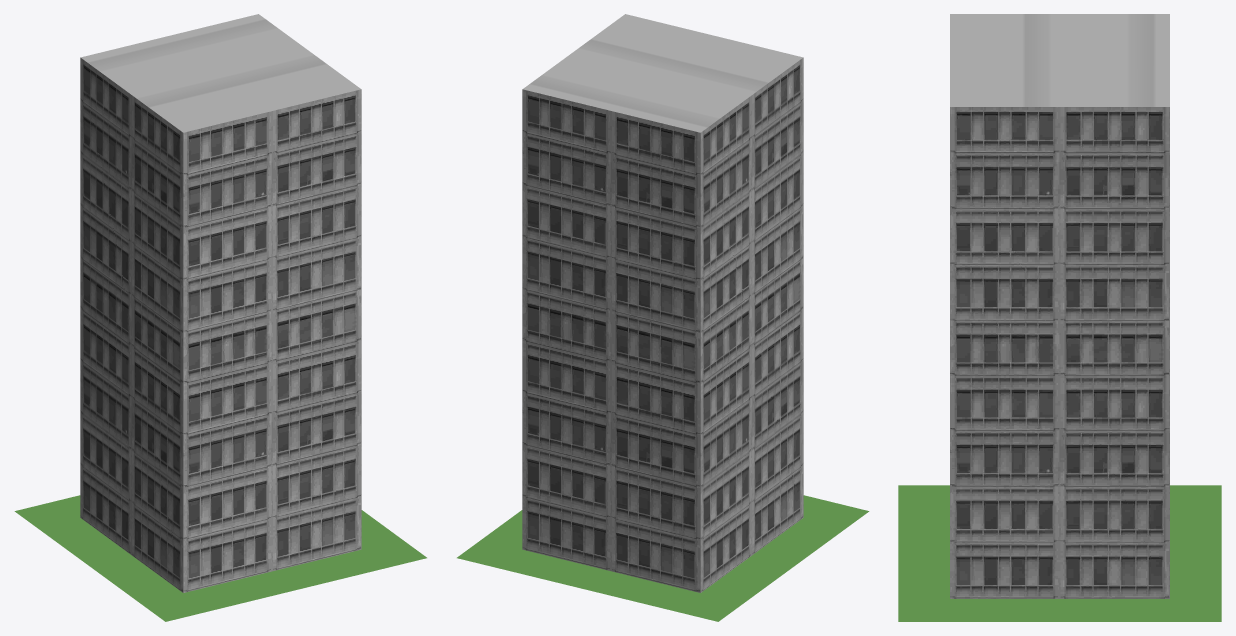
File: Building.002.gltf
The picture shows the model from 3 angles, left to right: view 1: azimuth 30°, elevation 25°; view 2: azimuth 150°, elevation 25°; view 3: azimuth 270°, elevation 25°; orthographic projection. The views are drawn at different scales.
Parts seen in each view (by area): view 1: Building.002, Plane.002; view 2: Building.002, Plane.002; view 3: Building.002, Plane.002.
Boxes of the visible parts, left/top/right/bottom form: Building.002: left=80, top=14, right=361, bottom=592; Plane.002: left=14, top=495, right=426, bottom=621; Building.002: left=522, top=14, right=803, bottom=592; Plane.002: left=457, top=495, right=869, bottom=621; Building.002: left=950, top=14, right=1169, bottom=598; Plane.002: left=898, top=485, right=1221, bottom=621.
Size of the model in its own units: 10.5 by 17.66 by 10.5.
Materials: 2 (1 with a texture image).
